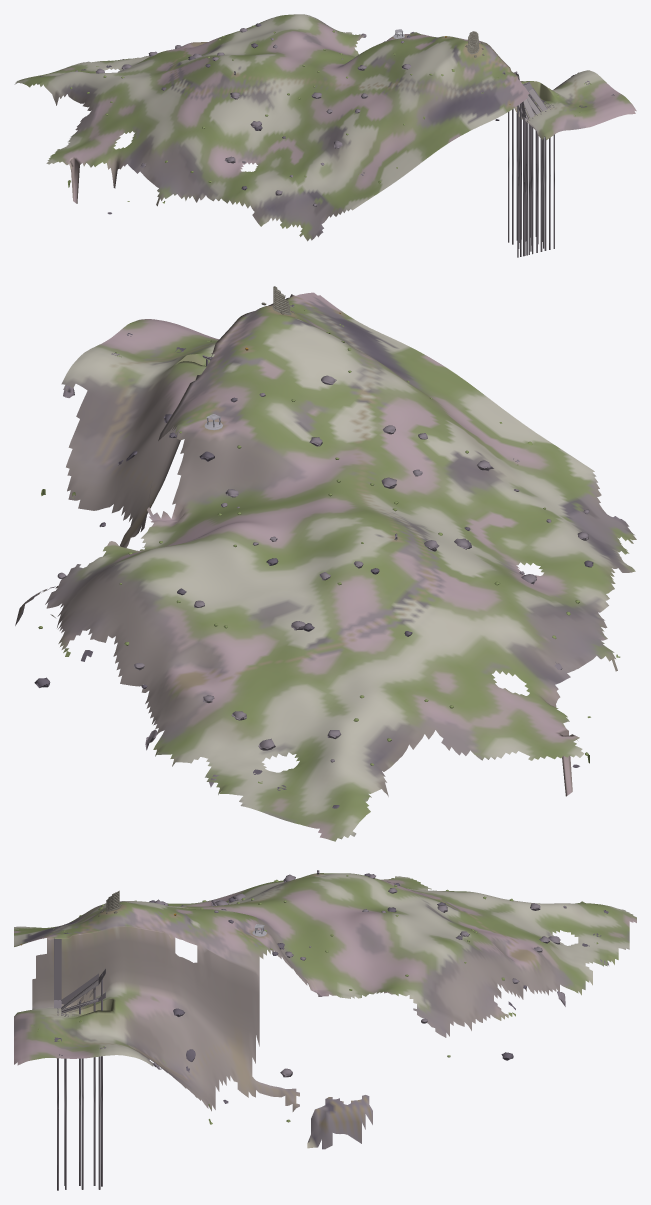
Rendered from coast_isl_saltglass.glb.
3 renders of one model, top to bottom at view 1: azimuth 30°, elevation 25°; view 2: azimuth 150°, elevation 25°; view 3: azimuth 270°, elevation 25°, orthographic. The views are drawn at different scales.
Visible parts, largest first — view 1: coast_isl_saltglass; view 2: coast_isl_saltglass; view 3: coast_isl_saltglass.
Boxes of the visible parts, x1,y1,x2,y2 form: coast_isl_saltglass: (14, 14, 636, 257); coast_isl_saltglass: (15, 286, 636, 841); coast_isl_saltglass: (14, 870, 636, 1190).
Size of the model in its own units: 340 by 159 by 340.
